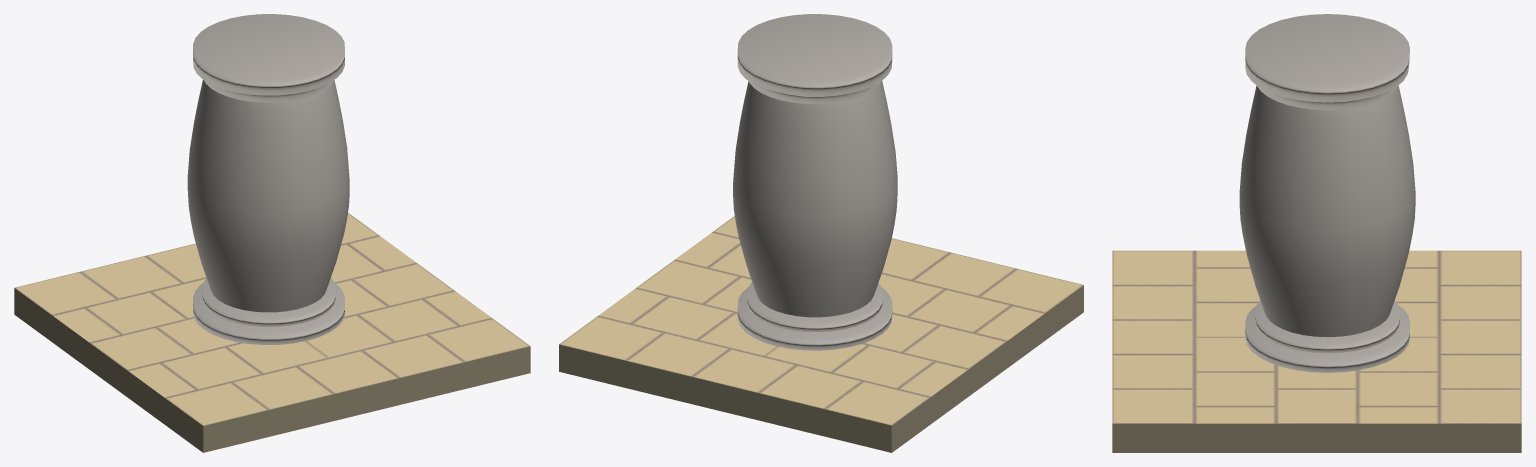
The model's file is tile0076.gltf.
3 views of the same model, side by side, from view 1: azimuth 30°, elevation 25°; view 2: azimuth 150°, elevation 25°; view 3: azimuth 270°, elevation 25° (orthographic). The views are drawn at different scales.
Parts seen in each view (by area): view 1: Cube, 圓柱體.005, 圓柱體.003, 圓柱體, 圓柱體.001, 圓柱體.004; view 2: Cube, 圓柱體.005, 圓柱體.003, 圓柱體, 圓柱體.001, 圓柱體.004; view 3: Cube, 圓柱體.005, 圓柱體.003, 圓柱體, 圓柱體.001, 圓柱體.004.
Part boxes in pixels (box(x1,y1,x2,y2)): Cube: box(14, 213, 530, 452); 圓柱體.005: box(187, 80, 349, 312); 圓柱體.003: box(193, 14, 344, 95); 圓柱體: box(193, 282, 344, 344); 圓柱體.001: box(202, 278, 335, 326); 圓柱體.004: box(204, 80, 333, 102); Cube: box(559, 216, 1083, 452); 圓柱體.005: box(733, 81, 897, 317); 圓柱體.003: box(737, 14, 892, 96); 圓柱體: box(737, 287, 892, 350); 圓柱體.001: box(747, 282, 882, 331); 圓柱體.004: box(749, 81, 880, 104); Cube: box(1112, 250, 1521, 452); 圓柱體.005: box(1239, 85, 1415, 337); 圓柱體.003: box(1245, 14, 1409, 102); 圓柱體: box(1245, 305, 1409, 372); 圓柱體.001: box(1255, 300, 1399, 353); 圓柱體.004: box(1257, 85, 1398, 110).
Size of the model in its own units: 4.95 by 4.25 by 4.95.
7 materials, 1 textured.
